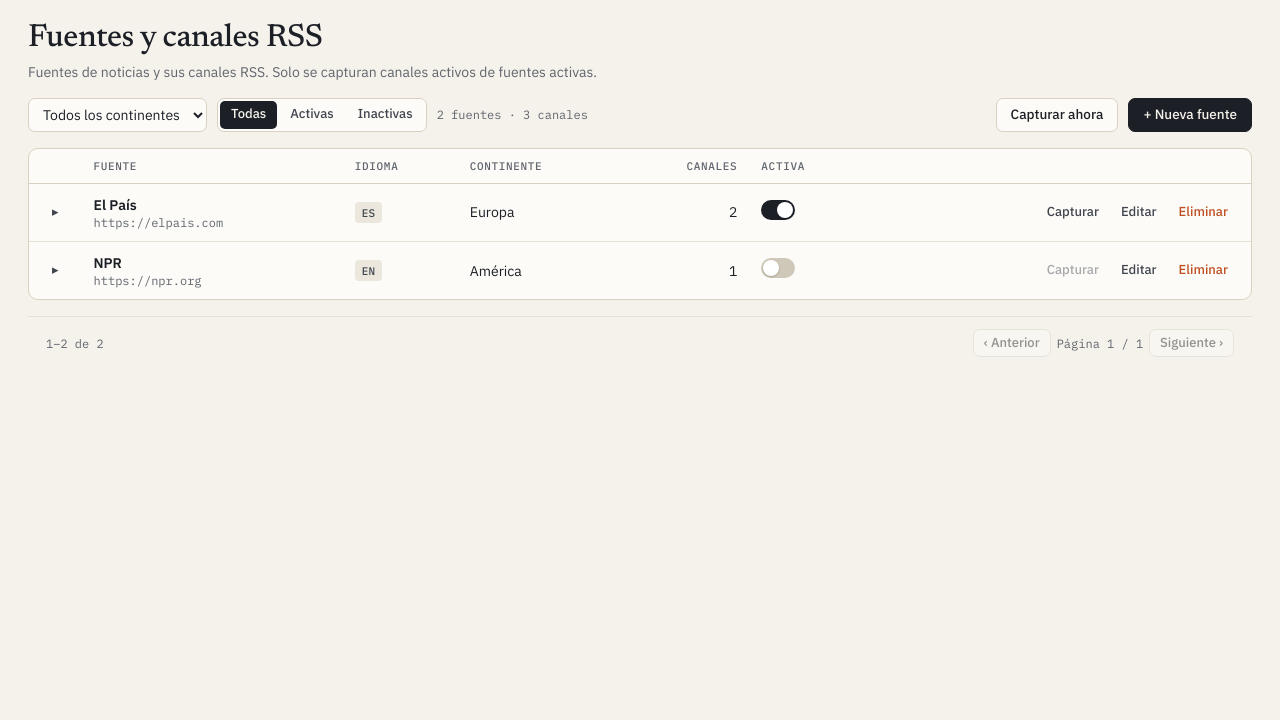
Scenario: SourcesPage › manual capture › captures all sources and shows the summary toast
Expected: the text "El País" is shown, [94,196,137,214]
Click the button "Capturar ahora". click: (1057, 115)
box: [996,98,1118,132]
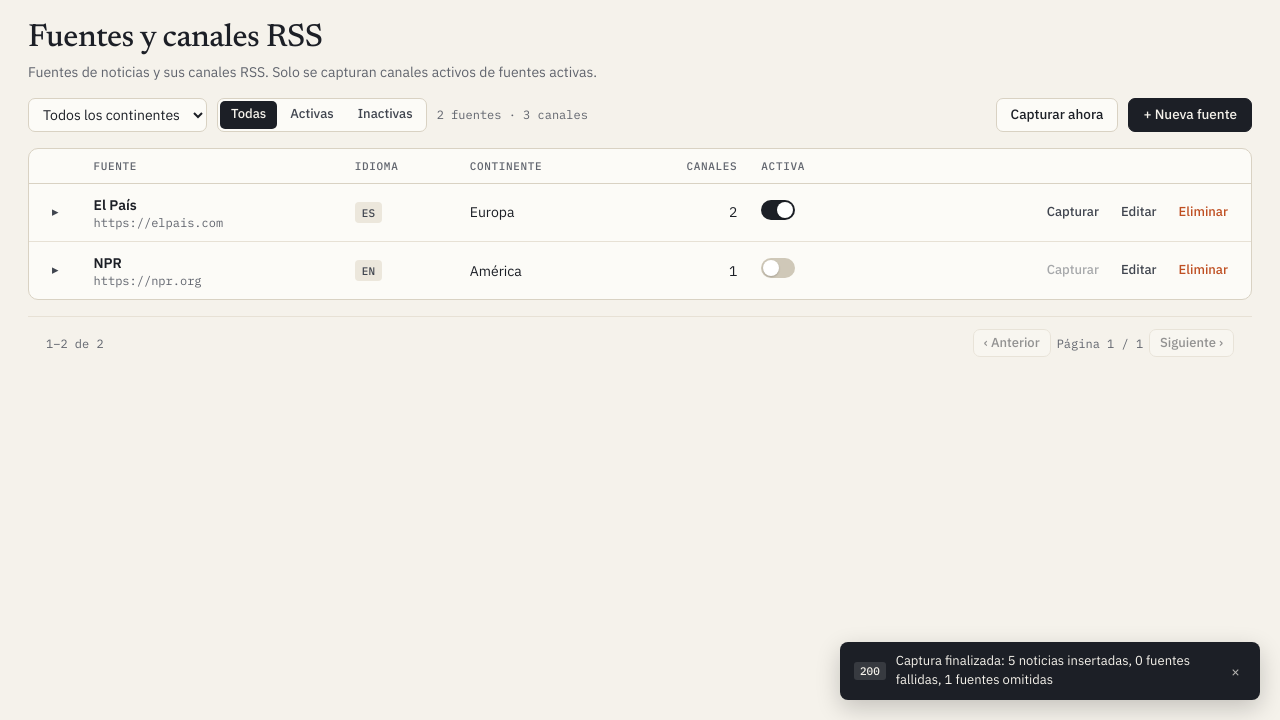
Expected: the text "5 noticias insertadas, 0 fuentes fallidas, 1 fuentes omitidas" is shown, [896,652,1190,688]
